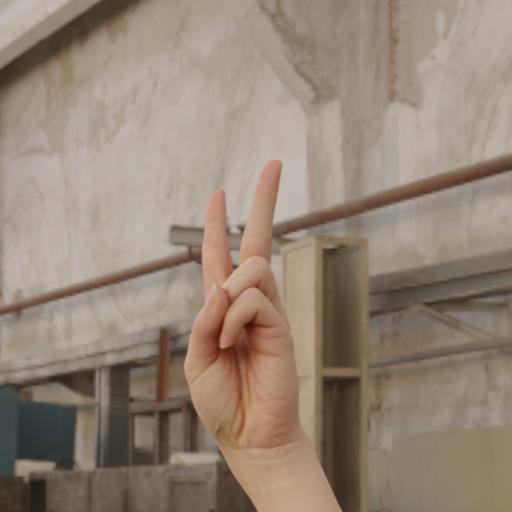V: (179, 157, 307, 432)
